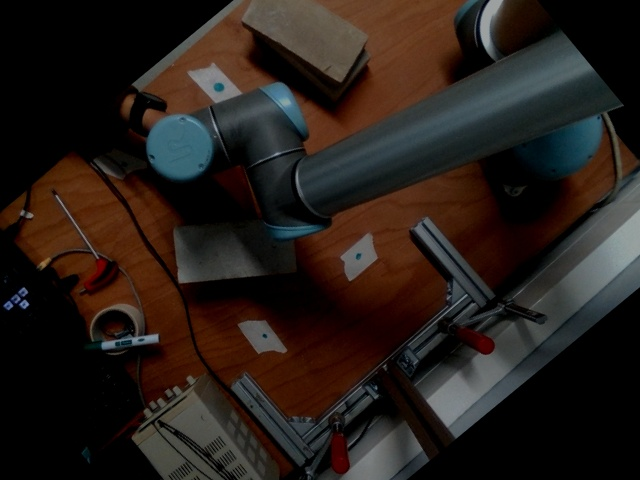brick: (241, 0, 368, 83)
